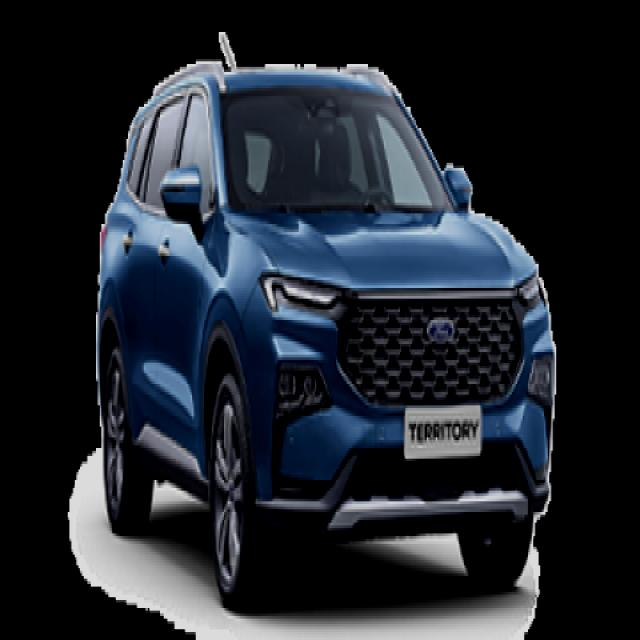SUV: (93, 69, 559, 608)
